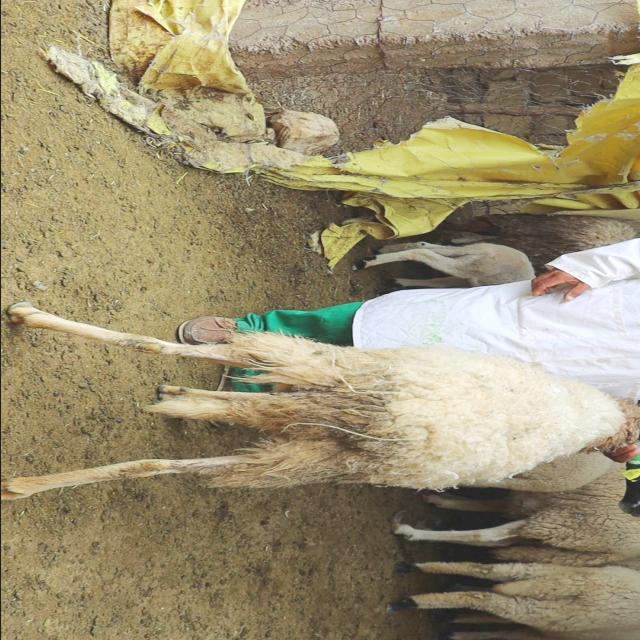Score_2: (1, 301, 640, 500)
